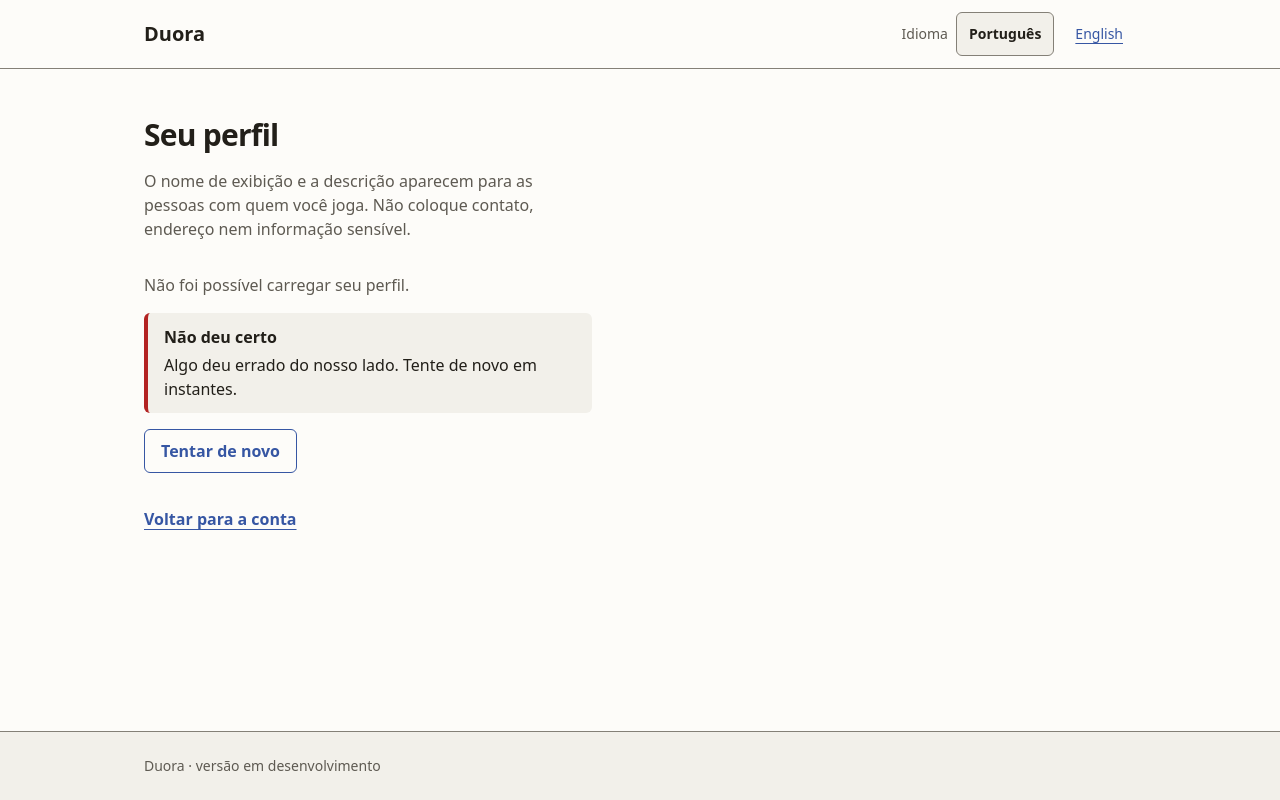
Test: perfil: leitura › falha de carga mostra o erro e tentar de novo recupera
Check: the text "Não foi possível carregar seu perfil." is shown, box [144,273,409,297]
Click the button "Tentar de novo": {"x": 220, "y": 451} [144,429,297,473]
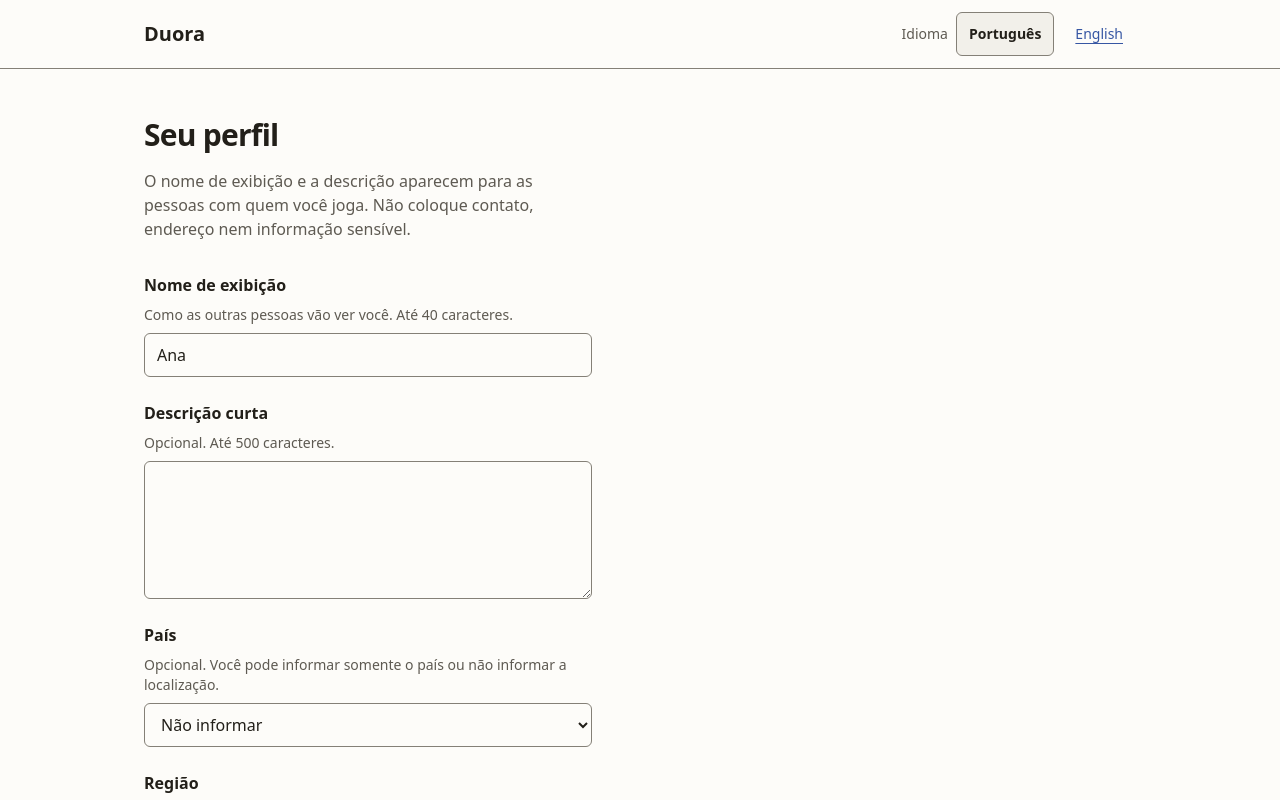
Check: the field labelled "Nome de exibição" holds "Ana", box [144,333,592,377]
